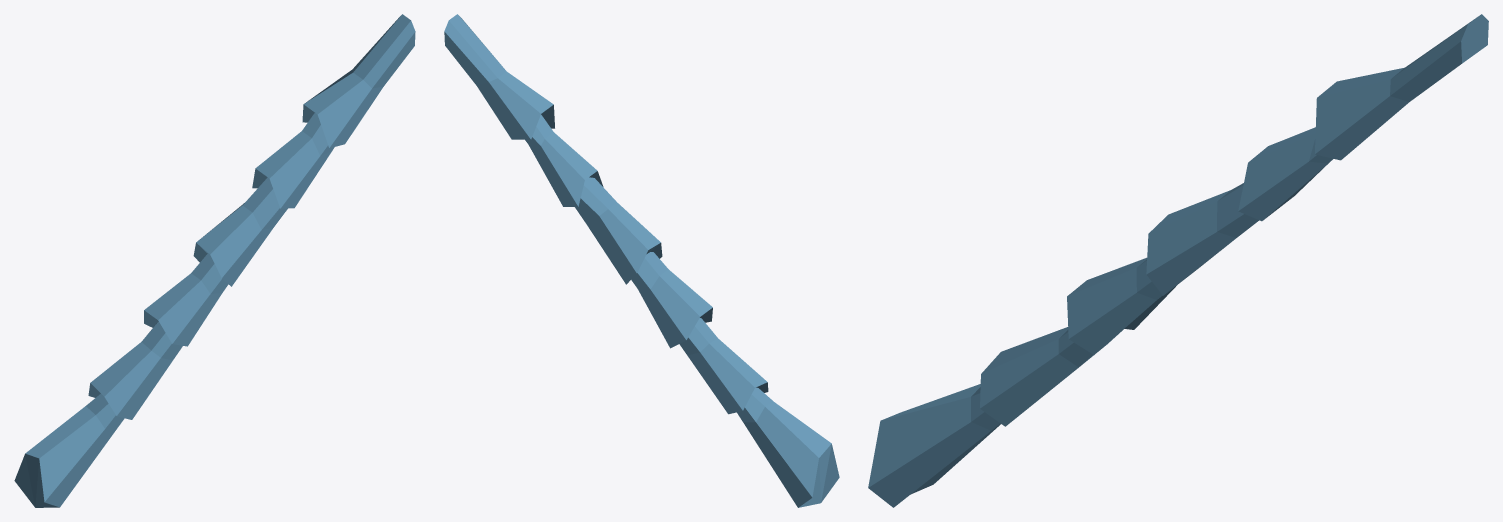
Rendered from ROOF_tile_side_1.fbx.
The picture shows the model from 3 angles, left to right: view 1: azimuth 30°, elevation 25°; view 2: azimuth 150°, elevation 25°; view 3: azimuth 330°, elevation 25°; orthographic projection. The views are drawn at different scales.
Parts seen in each view (by area): view 1: ROOF_tile_side_1; view 2: ROOF_tile_side_1; view 3: ROOF_tile_side_1.
Part boxes in pixels (box(x1,y1,x2,y2)): ROOF_tile_side_1: box(14, 14, 415, 507); ROOF_tile_side_1: box(444, 14, 839, 507); ROOF_tile_side_1: box(868, 14, 1488, 507).
Bounding box in the file's own units: 161 × 163 × 21.35.
